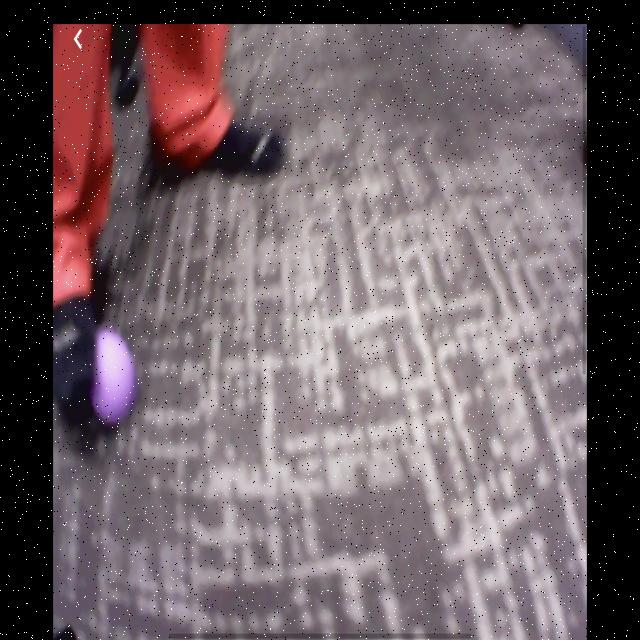ball: (88, 330, 135, 425)
